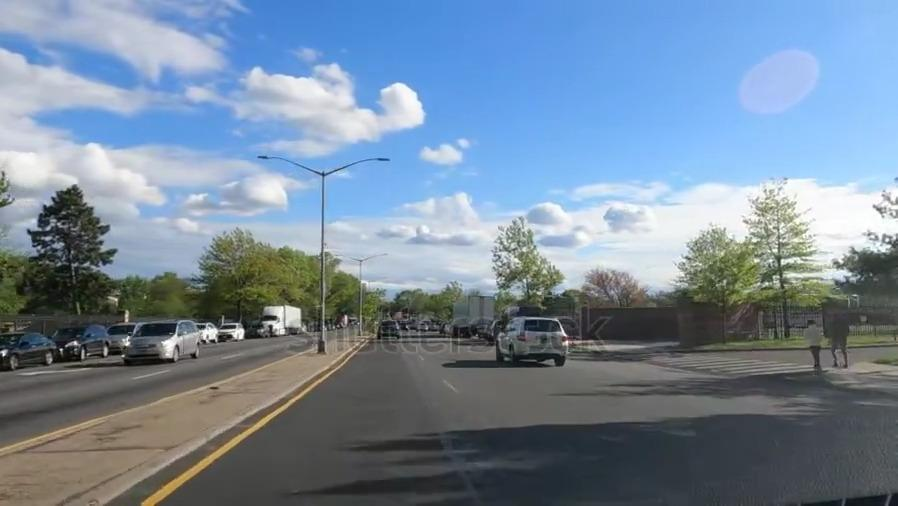car: (491, 319, 570, 368), (133, 320, 198, 361), (50, 325, 109, 359), (1, 331, 55, 368), (107, 320, 137, 351), (197, 318, 217, 345), (218, 321, 244, 341), (377, 320, 401, 339), (248, 322, 268, 338)
pedestrian: (607, 352, 841, 379)
person: (825, 311, 852, 369), (801, 318, 823, 374)
truck: (261, 304, 304, 339)
